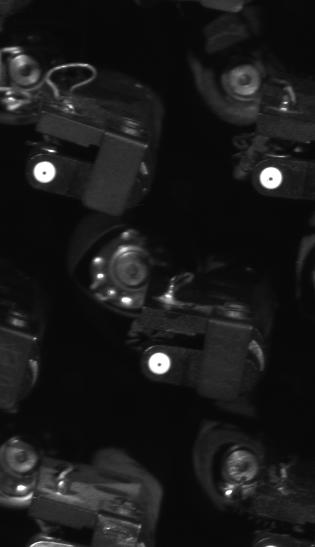fiber: (141, 347, 182, 383), (253, 159, 287, 196), (30, 157, 66, 187)
